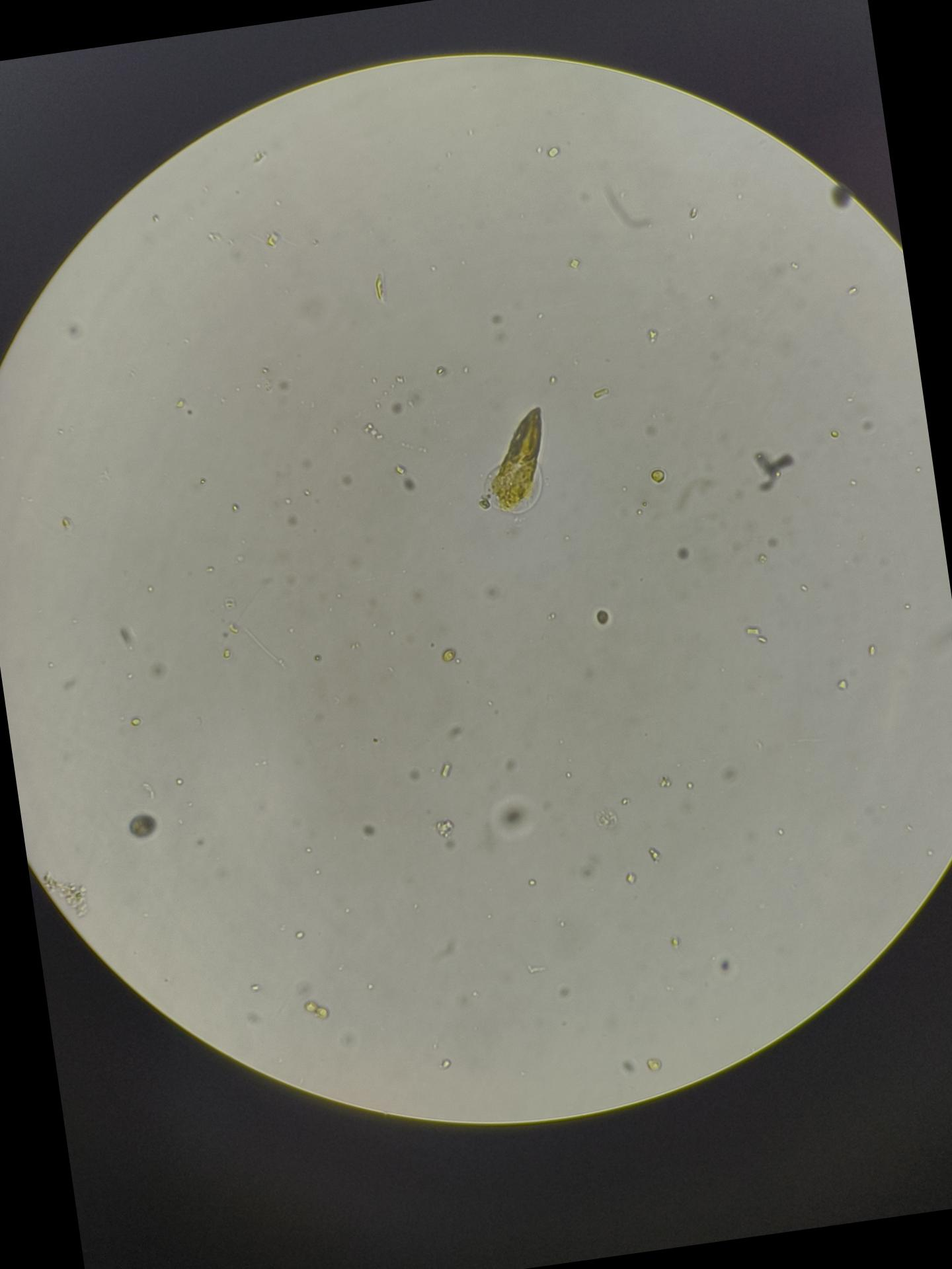Euglena: (462, 399, 571, 528)
